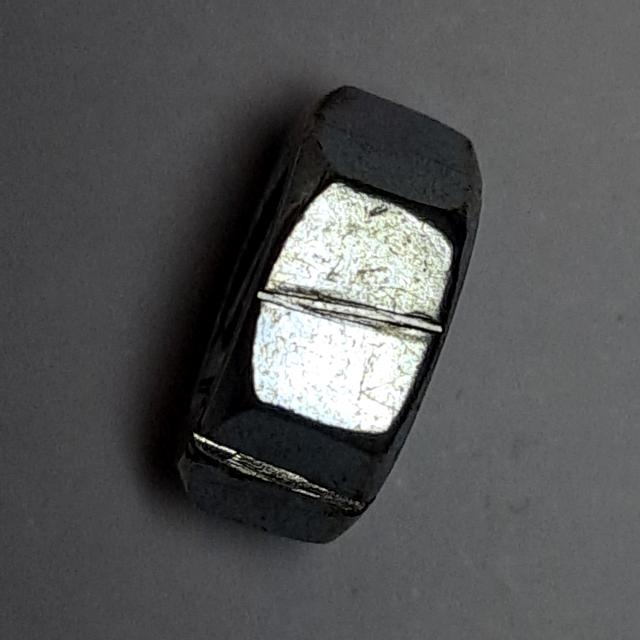Side_Scratches: (159, 72, 496, 570)
